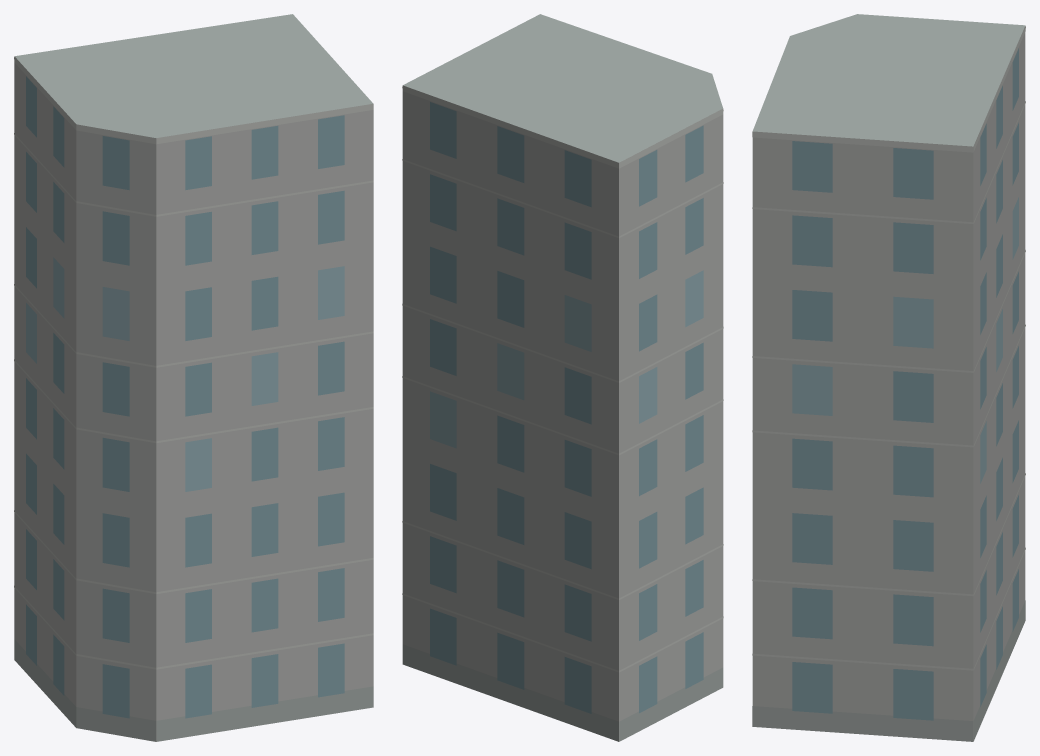
File: residential-2ddfa01c-6dcd-4f8d-9466-a75ebceca631.glb
The picture shows the model from 3 angles, left to right: view 1: azimuth 30°, elevation 25°; view 2: azimuth 150°, elevation 25°; view 3: azimuth 270°, elevation 25°; orthographic projection. The views are drawn at different scales.
Visible parts, largest first — view 1: residential-2ddfa01c-6dcd-4f8d-9466-a75ebceca631.tmp; view 2: residential-2ddfa01c-6dcd-4f8d-9466-a75ebceca631.tmp; view 3: residential-2ddfa01c-6dcd-4f8d-9466-a75ebceca631.tmp.
Part boxes in pixels (box(x1,y1,x2,y2)): residential-2ddfa01c-6dcd-4f8d-9466-a75ebceca631.tmp: box(14, 14, 373, 741); residential-2ddfa01c-6dcd-4f8d-9466-a75ebceca631.tmp: box(402, 14, 723, 741); residential-2ddfa01c-6dcd-4f8d-9466-a75ebceca631.tmp: box(752, 14, 1025, 741).
Size of the model in its own units: 11.48 by 24 by 10.
